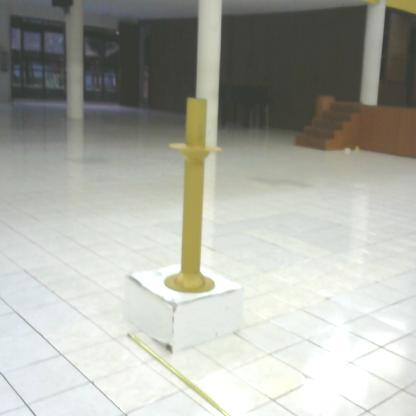pole: (163, 92, 225, 296)
